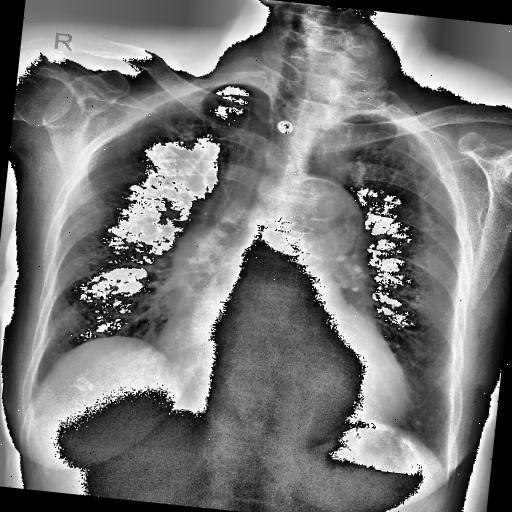0- Aortic enlargement: (166, 163, 376, 331), (168, 162, 375, 310), (281, 174, 371, 269)
3- Cardiomegaly: (153, 304, 415, 426), (150, 317, 422, 432), (144, 322, 412, 432)
